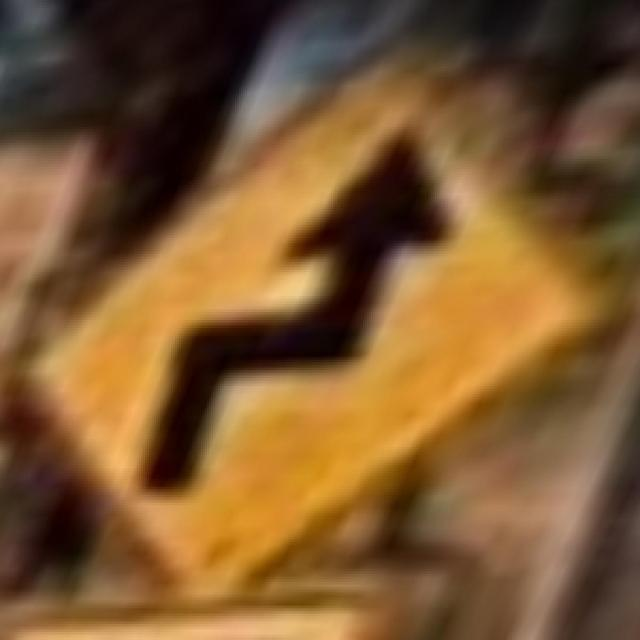Tikungan Ganda Pertama Ke Kanan: (21, 47, 576, 598)
